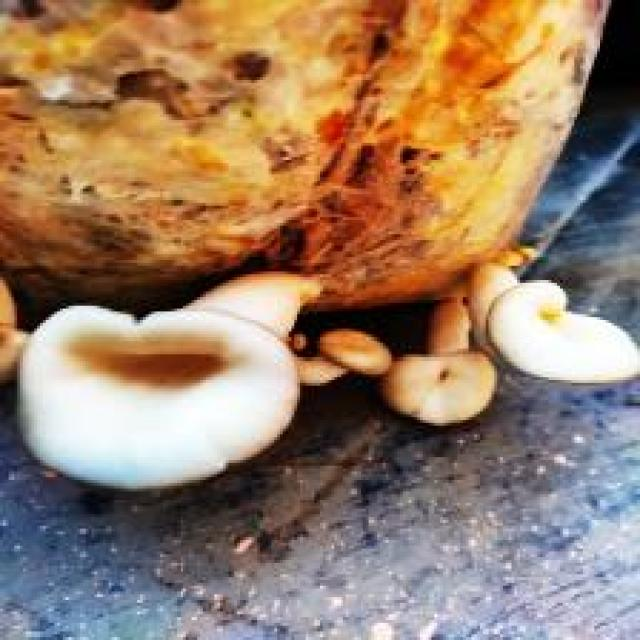chanterelle: (0, 0, 623, 314)
field-mushroom: (14, 300, 300, 491)
